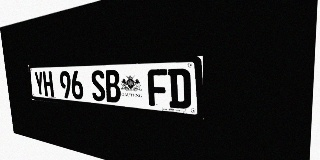6: (70, 70, 84, 100)
9: (59, 71, 72, 99)
B: (104, 70, 121, 103)
D: (168, 68, 191, 109)
F: (147, 69, 168, 107)
H: (42, 71, 54, 97)
S: (90, 70, 106, 102)
Y: (34, 71, 45, 96)
